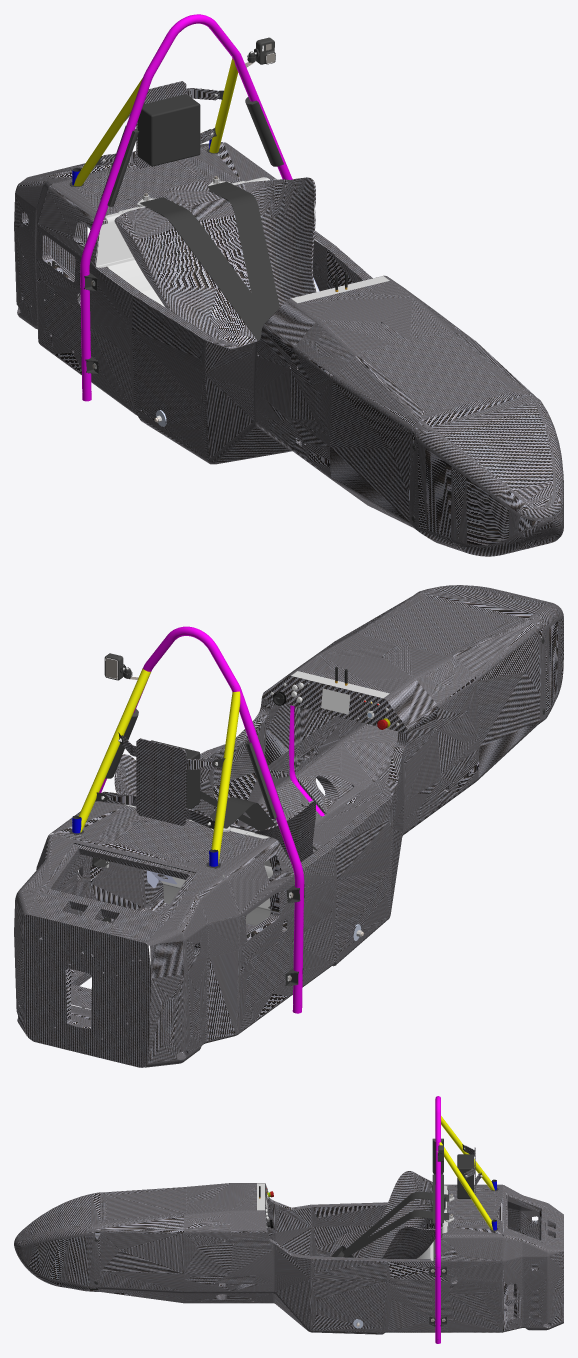
The model's file is r27e-frame.glb.
3 renders of one model, top to bottom at view 1: azimuth 30°, elevation 25°; view 2: azimuth 150°, elevation 25°; view 3: azimuth 270°, elevation 25°, orthographic. The views are drawn at different scales.
Visible parts, largest first — view 1: 27_Monocoque-1, 27_Nose_Cone-1, 27_Seat-1, 27_Driver_Harness_Belts-1, 27_MRH_Assembly-127_MRH-1, 27_Monocoque_Flap-1, 27_HR_Padding-1, 27_Firewall_Body-1, 27_MRH_Assembly-127_MRH_Padding-1, 27_HR_Mount-1; view 2: 27_Monocoque-1, 27_MRH_Assembly-127_MRH-1, 27_HR_Mount-1, 27_Nose_Cone-1, 27_Monocoque_Flap-1, 27_Dashboard_CF-1, 27_Seat-1, 27_Driver_Harness_Belts-1, 27_MRH_Assembly-127_MRH_Padding-1, 27_Firewall_Body-1, 27_HR_Padding-1, 27_PCB_enclosure_case_FC2-1 (+1 smaller); view 3: 27_Monocoque-1, 27_Nose_Cone-1, 27_Seat-1, 27_MRH_Assembly-127_MRH-1, 27_Monocoque_Flap-1, 27_Driver_Harness_Belts-1, 27_HR_Padding-1, 27_MRH_Assembly-127_MRH_Padding-1.
Boxes of the visible parts, bbox=[...] form: 27_Monocoque-1: bbox=[14, 142, 535, 527]; 27_Nose_Cone-1: bbox=[408, 394, 563, 556]; 27_Seat-1: bbox=[114, 177, 316, 346]; 27_Driver_Harness_Belts-1: bbox=[139, 181, 279, 353]; 27_MRH_Assembly-127_MRH-1: bbox=[69, 14, 292, 401]; 27_Monocoque_Flap-1: bbox=[360, 331, 512, 412]; 27_HR_Padding-1: bbox=[137, 94, 200, 166]; 27_Firewall_Body-1: bbox=[96, 177, 318, 306]; 27_MRH_Assembly-127_MRH_Padding-1: bbox=[100, 97, 283, 206]; 27_HR_Mount-1: bbox=[100, 81, 219, 168]; 27_Monocoque-1: bbox=[14, 593, 540, 1067]; 27_MRH_Assembly-127_MRH-1: bbox=[69, 626, 304, 1013]; 27_HR_Mount-1: bbox=[101, 735, 217, 828]; 27_Nose_Cone-1: bbox=[414, 585, 563, 724]; 27_Monocoque_Flap-1: bbox=[360, 598, 512, 655]; 27_Dashboard_CF-1: bbox=[262, 675, 406, 733]; 27_Seat-1: bbox=[114, 754, 318, 869]; 27_Driver_Harness_Belts-1: bbox=[200, 791, 321, 856]; 27_MRH_Assembly-127_MRH_Padding-1: bbox=[105, 709, 283, 818]; 27_Firewall_Body-1: bbox=[122, 804, 287, 930]; 27_HR_Padding-1: bbox=[151, 740, 200, 808]; 27_PCB_enclosure_case_FC2-1: bbox=[291, 671, 389, 718]; 27_Monocoque-1: bbox=[100, 1183, 563, 1334]; 27_Nose_Cone-1: bbox=[14, 1192, 100, 1291]; 27_Seat-1: bbox=[330, 1171, 445, 1258]; 27_MRH_Assembly-127_MRH-1: bbox=[435, 1096, 498, 1343]; 27_Monocoque_Flap-1: bbox=[106, 1188, 186, 1220]; 27_Driver_Harness_Belts-1: bbox=[331, 1191, 449, 1257]; 27_HR_Padding-1: bbox=[457, 1154, 473, 1198]; 27_MRH_Assembly-127_MRH_Padding-1: bbox=[432, 1138, 443, 1222].
Bounding box in the file's own units: 2.67 × 4.11 × 9.57.
123 materials, 7 textured.
